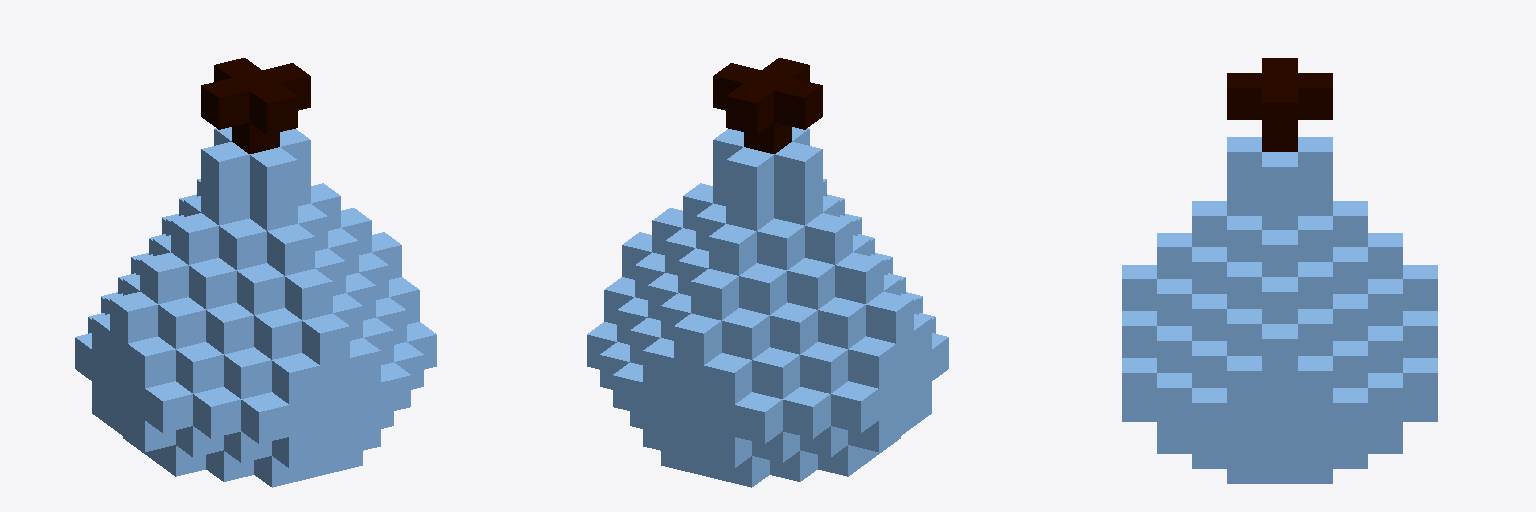
3 views of the same model, side by side, from view 1: azimuth 30°, elevation 25°; view 2: azimuth 150°, elevation 25°; view 3: azimuth 270°, elevation 25° (orthographic).
Parts seen in each view (by area): view 1: WitchPotionMATBlue; view 2: WitchPotionMATBlue; view 3: WitchPotionMATBlue.
Boxes of the visible parts, x1=… form: WitchPotionMATBlue: x1=75, y1=58, x2=436, y2=487; WitchPotionMATBlue: x1=587, y1=58, x2=948, y2=487; WitchPotionMATBlue: x1=1122, y1=58, x2=1437, y2=483.
Size of the model in its own units: 9 by 11 by 9.
1 materials, 1 textured.